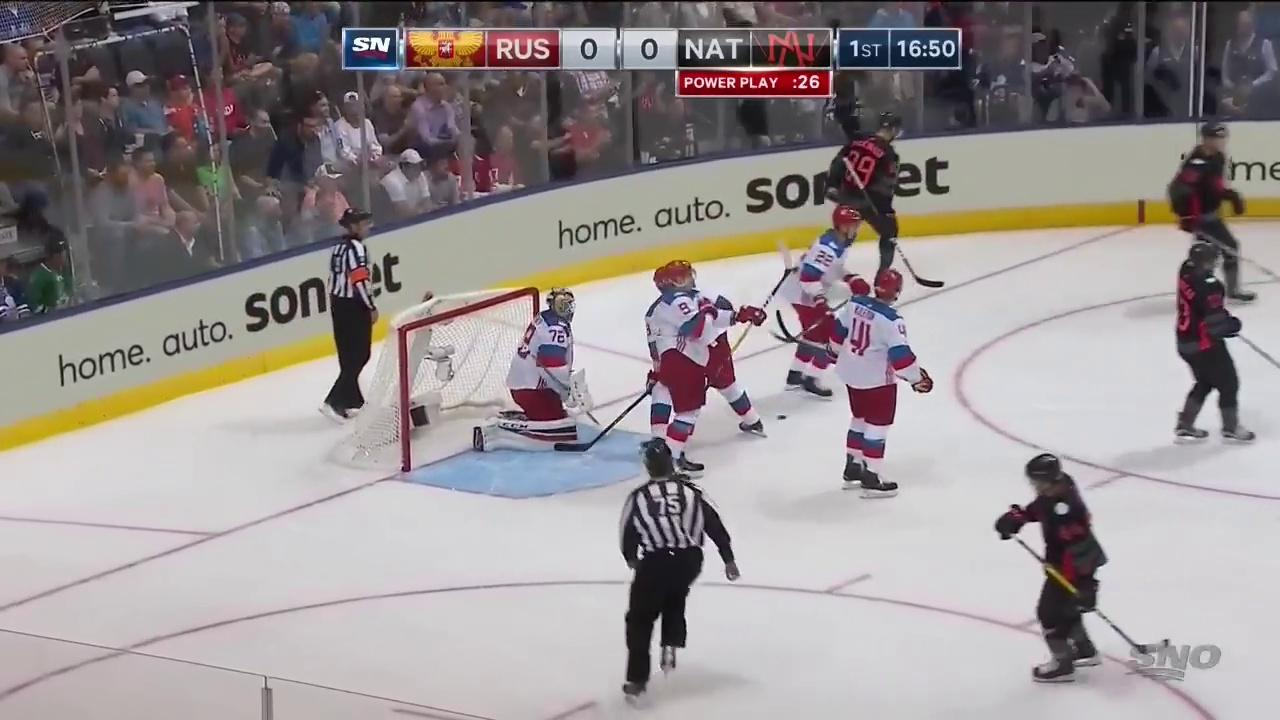ball: (776, 413, 788, 421)
